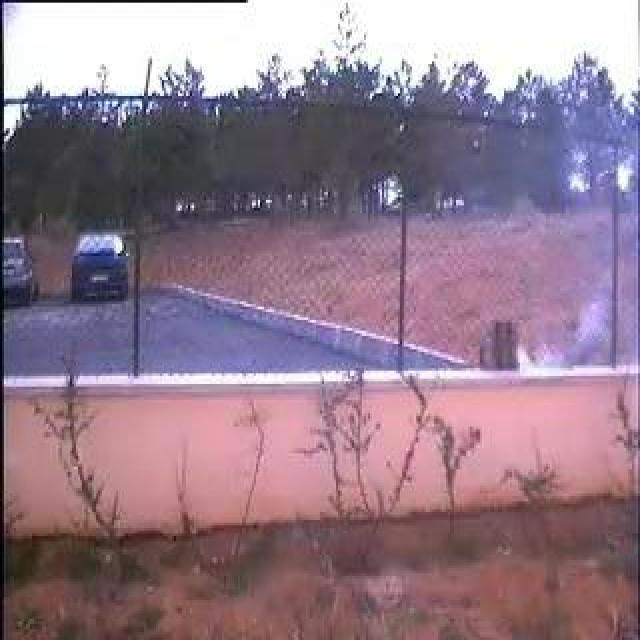Smoke: (515, 304, 603, 373)
